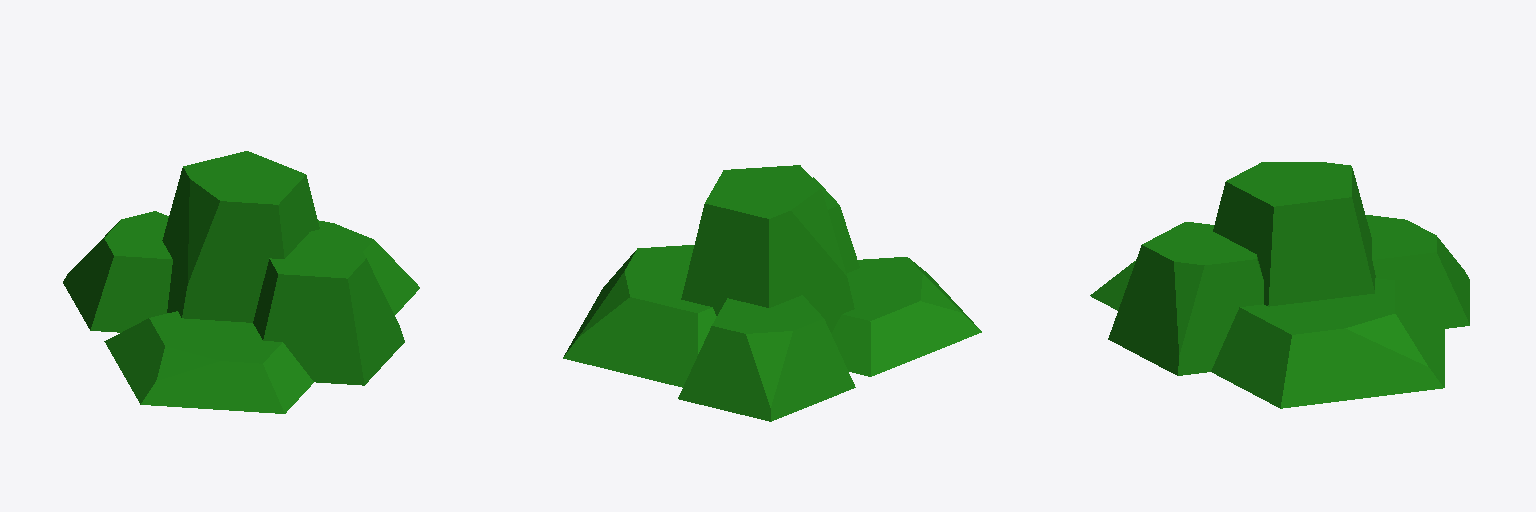
Rendered from BigHill.obj.
3 renders of one model, left to right at view 1: azimuth 30°, elevation 25°; view 2: azimuth 150°, elevation 25°; view 3: azimuth 270°, elevation 25°, orthographic.
Parts seen in each view (by area): view 1: rocks; view 2: rocks; view 3: rocks.
Boxes of the visible parts, box(x1,y1,x2,y2) form: rocks: box(63, 151, 419, 413); rocks: box(563, 165, 981, 421); rocks: box(1090, 162, 1469, 408).
Size of the model in its own units: 1 by 0.4186 by 1.